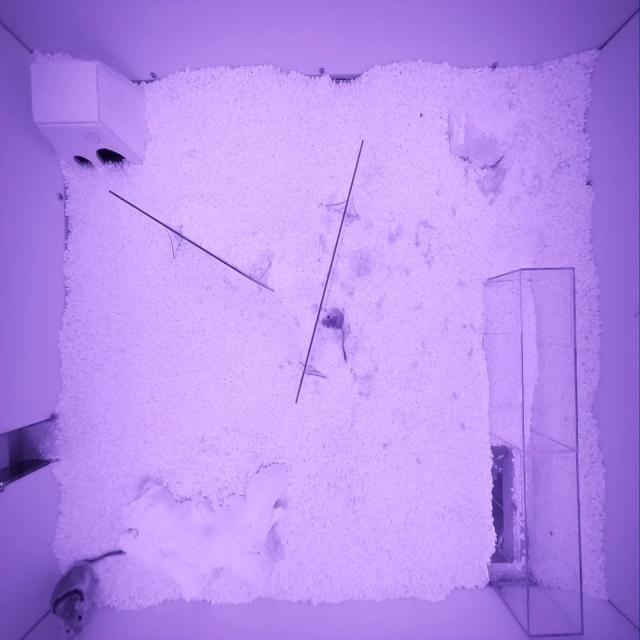adult_front: (50, 562, 101, 638)
pup_fluffy: (321, 307, 345, 329)
